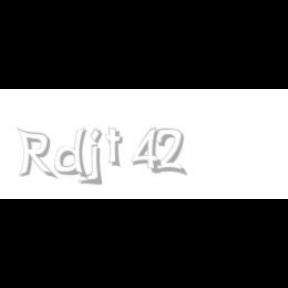2: (151, 128, 185, 176)
4: (130, 128, 162, 174)
R: (16, 128, 54, 180)
d: (54, 128, 92, 180)
j: (88, 128, 116, 186)
t: (105, 128, 127, 168)
